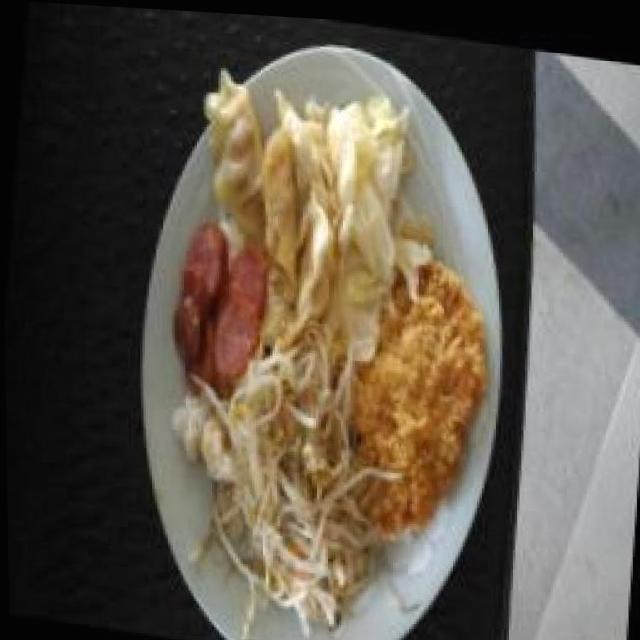chinese_cabbage: (316, 90, 412, 322)
chinese_sausage: (160, 210, 275, 396)
fried_chicken: (343, 246, 499, 536)
fried_dumplings: (183, 53, 343, 304)
mung_bean_sprouts: (224, 318, 360, 617)
rice: (164, 367, 236, 489)
